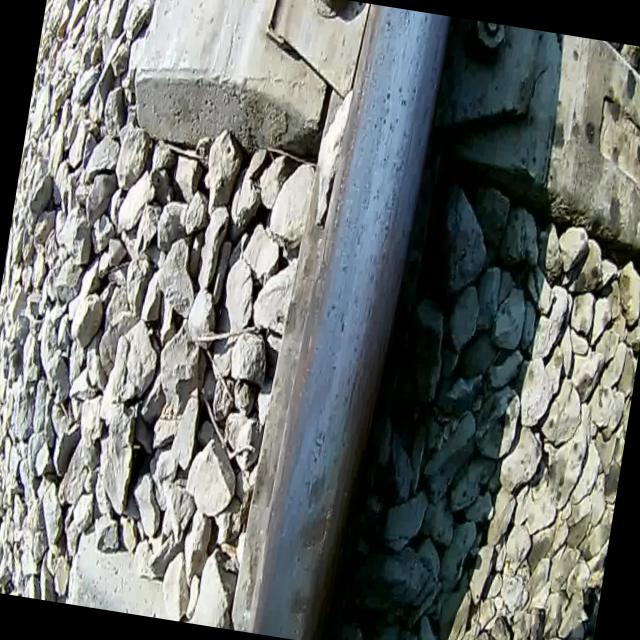Squats: (290, 506, 336, 568), (300, 462, 331, 513), (286, 582, 318, 626)
